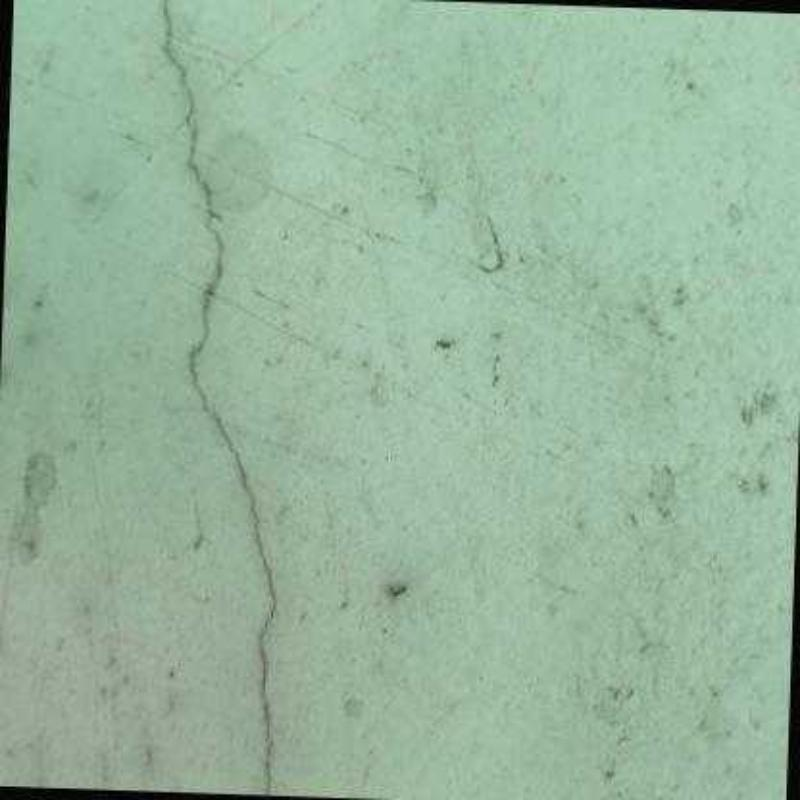pothole: (161, 0, 278, 796)
